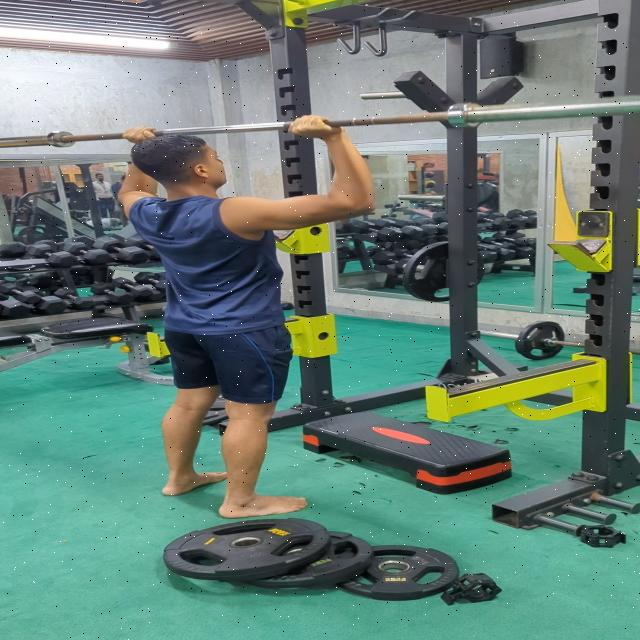Normal_OverheadPress: (125, 104, 385, 524)
